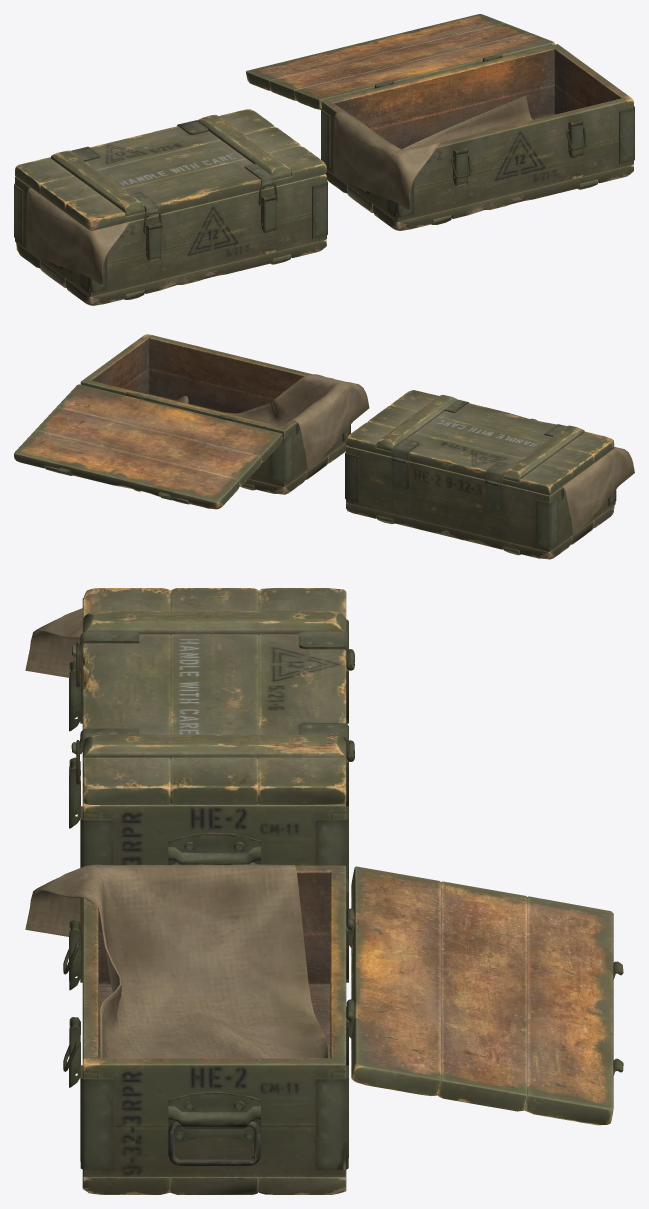
The model's file is old_military_crate.glb.
3 views of the same model, one above another, from view 1: azimuth 30°, elevation 25°; view 2: azimuth 150°, elevation 25°; view 3: azimuth 270°, elevation 25° (orthographic). The views are drawn at different scales.
Visible parts, largest first — view 1: old_military_crate_lid_a; view 2: old_military_crate_lid_a; view 3: old_military_crate_lid_a.
Boxes of the visible parts, x1=… form: old_military_crate_lid_a: x1=14, y1=14, x2=634, y2=305; old_military_crate_lid_a: x1=14, y1=334, x2=634, y2=559; old_military_crate_lid_a: x1=25, y1=588, x2=623, y2=1194.
Size of the model in its own units: 1.82 by 0.3009 by 0.9758.
Materials: 1 (1 with a texture image).
